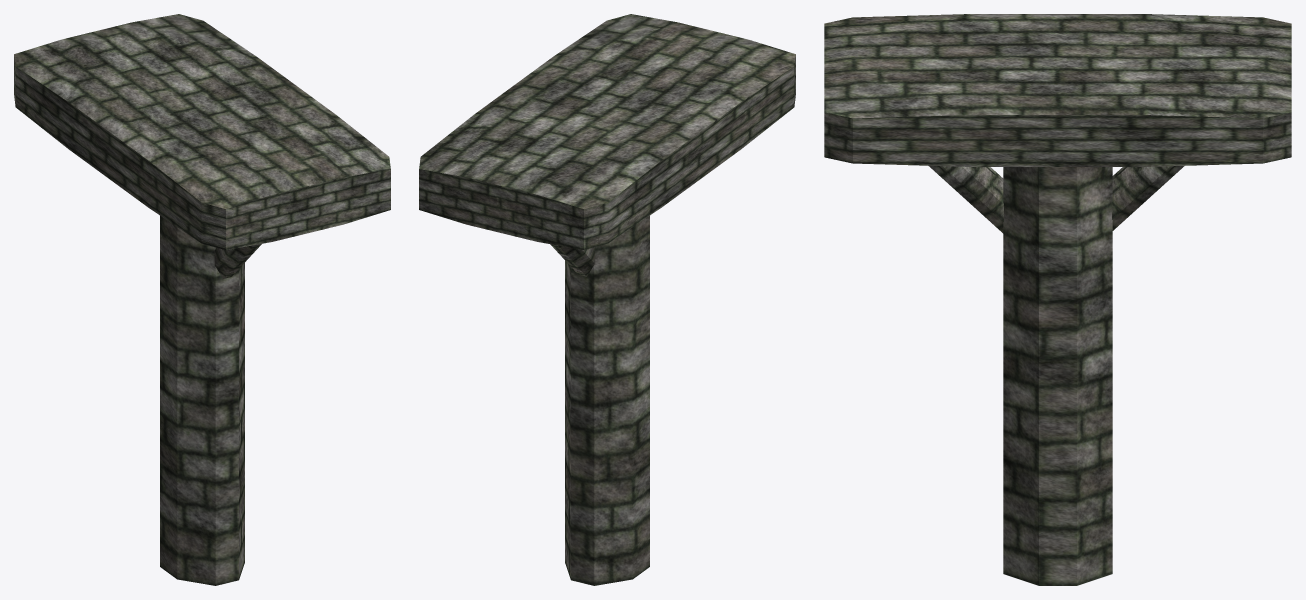
Rendered from Plataforma1.fbx.
3 views of the same model, side by side, from view 1: azimuth 30°, elevation 25°; view 2: azimuth 150°, elevation 25°; view 3: azimuth 270°, elevation 25° (orthographic). The views are drawn at different scales.
Parts seen in each view (by area): view 1: Cube.063; view 2: Cube.063; view 3: Cube.063.
Boxes of the visible parts, x1,y1,x2,y2 form: Cube.063: [14, 14, 390, 585]; Cube.063: [419, 14, 795, 585]; Cube.063: [824, 14, 1291, 585].
Bounding box in the file's own units: 296 × 693 × 579.
